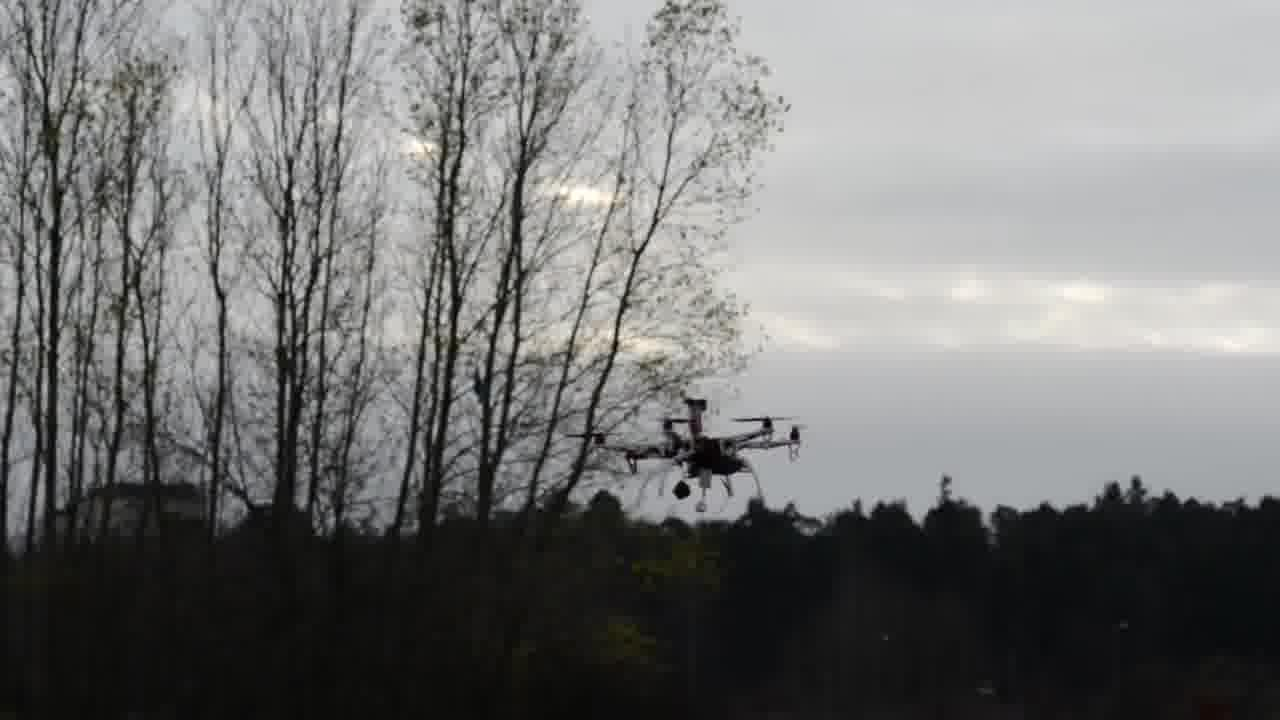drone: (567, 392, 807, 502)
